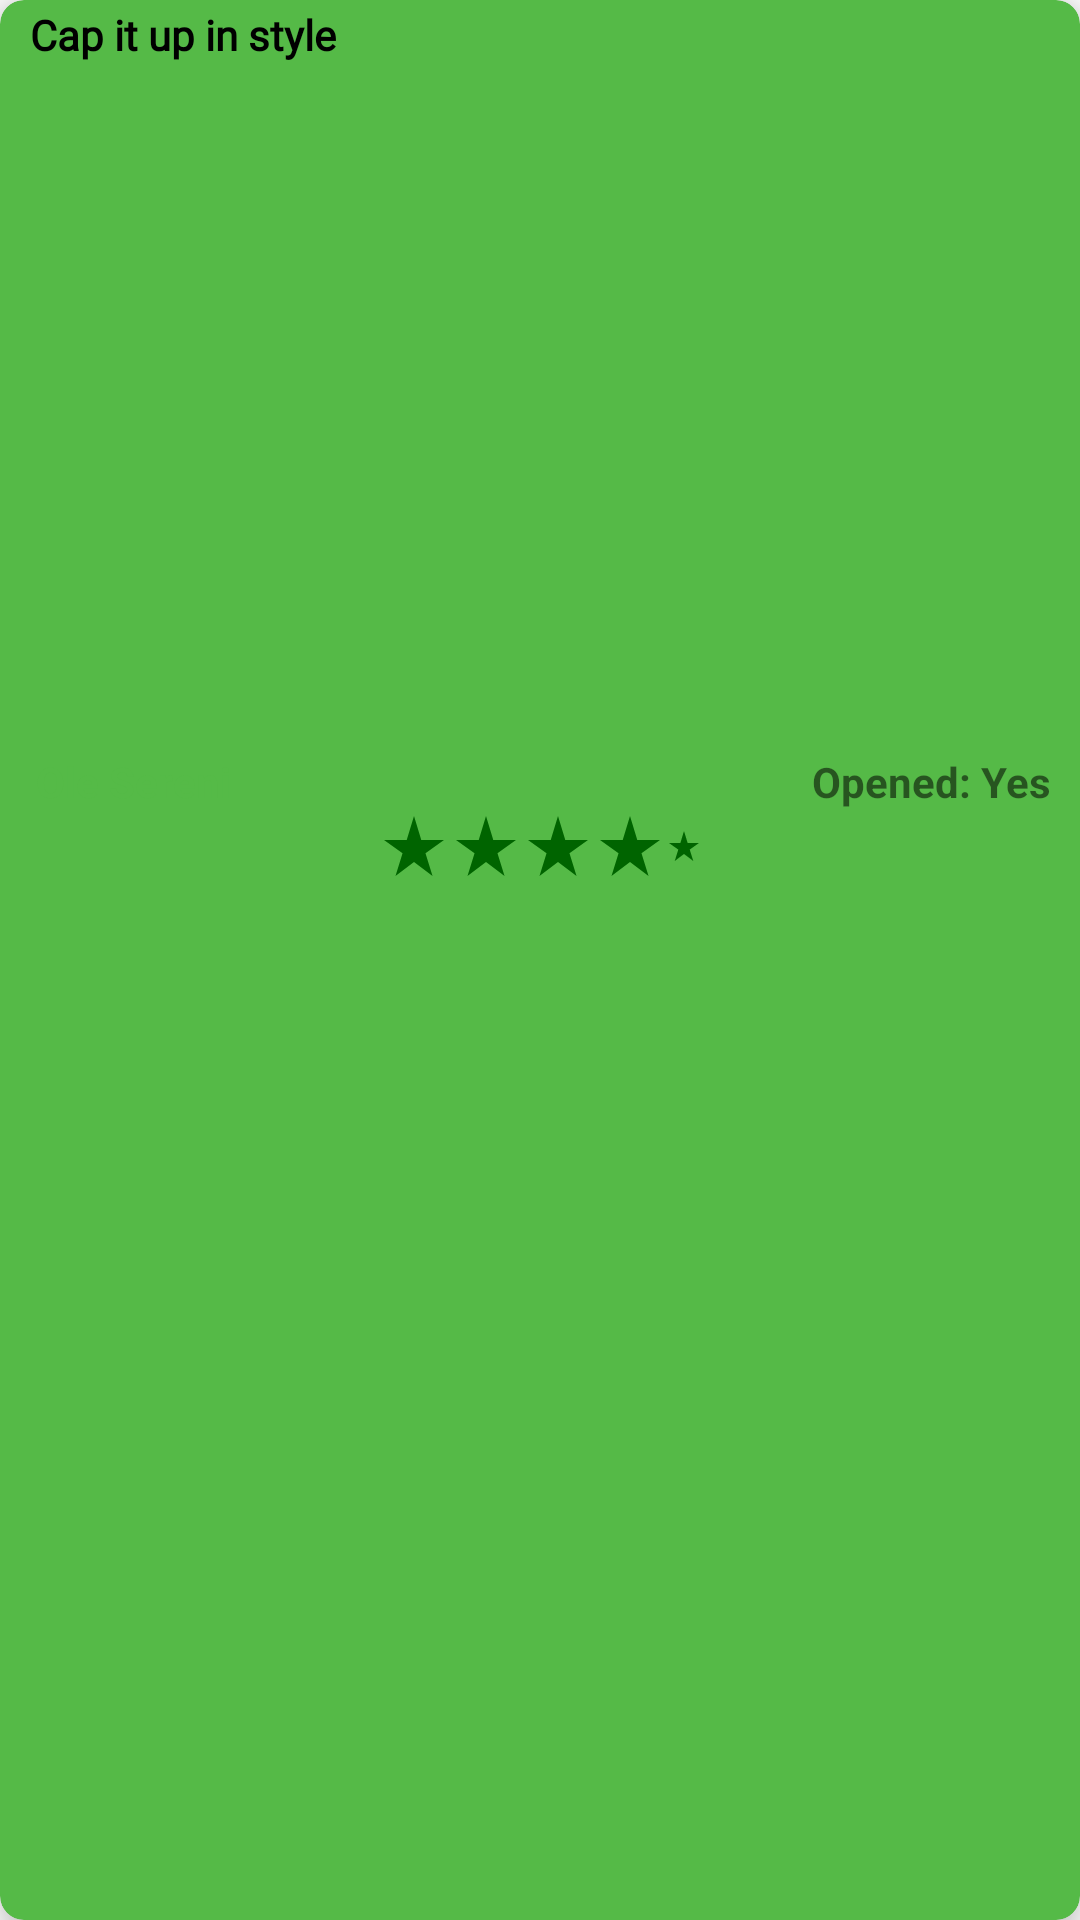

Named icons in this screenshot (1080 x 1920) and their bounding boxes, (x1, y1, x2, y2):
star: (384, 817, 444, 876), (456, 817, 516, 876), (528, 817, 588, 876), (600, 817, 660, 876), (669, 832, 699, 861)
